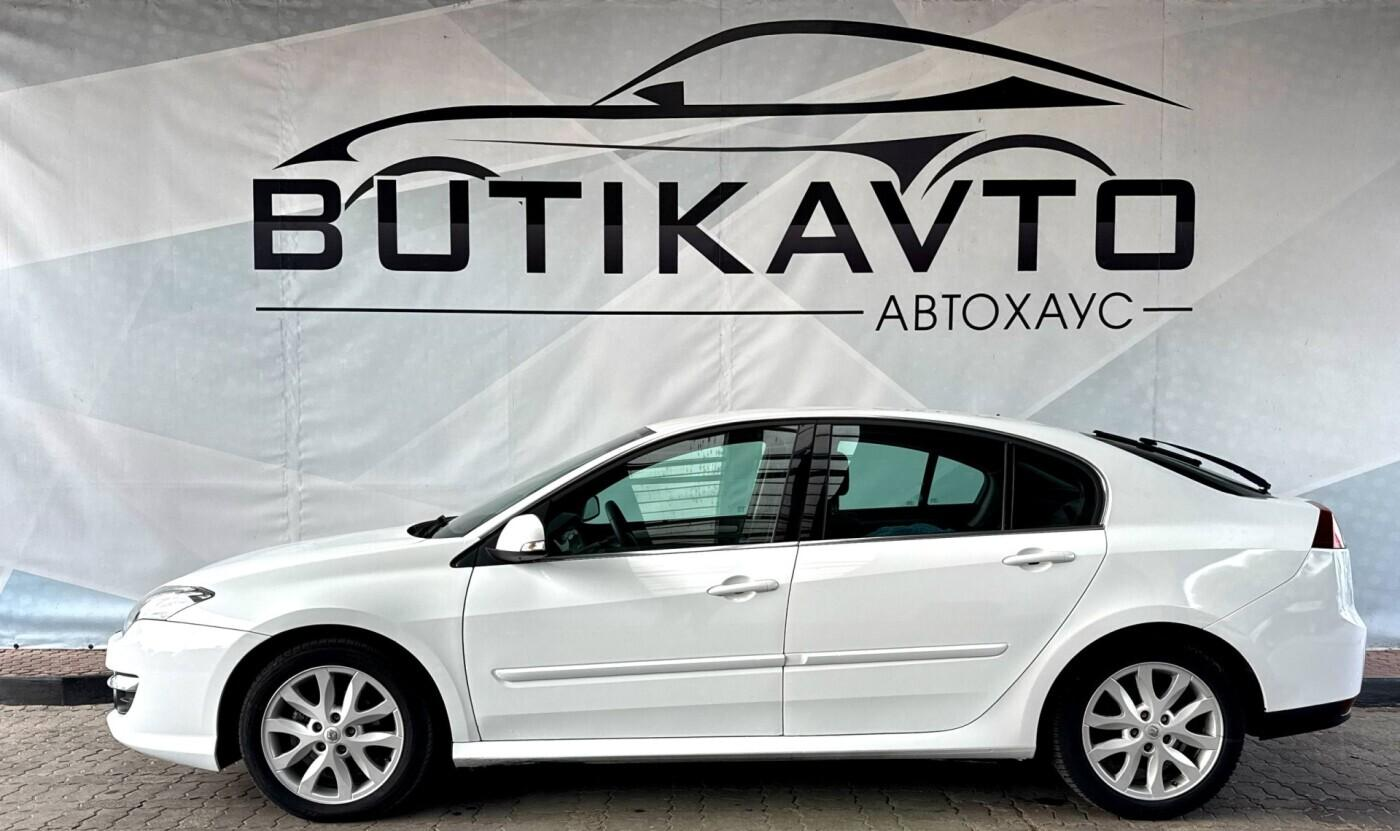Laguna_2010-2015: (91, 399, 1356, 824)
